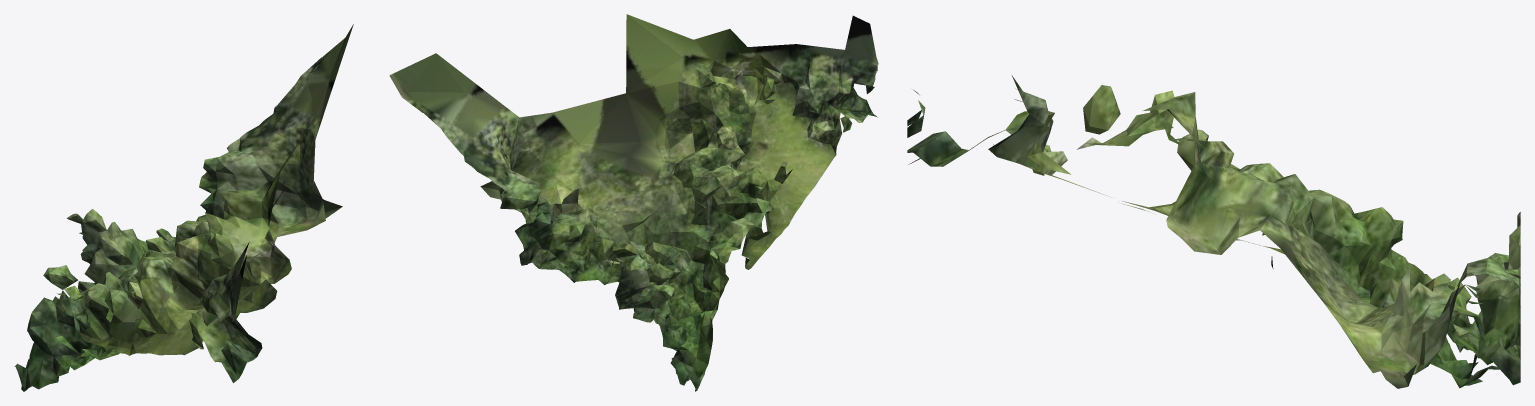
3 renders of one model, left to right at view 1: azimuth 30°, elevation 25°; view 2: azimuth 150°, elevation 25°; view 3: azimuth 270°, elevation 25°, orthographic. The views are drawn at different scales.
Bounding box in the file's own units: 95.37 × 81.98 × 104.
Materials: 3 (3 with a texture image).
